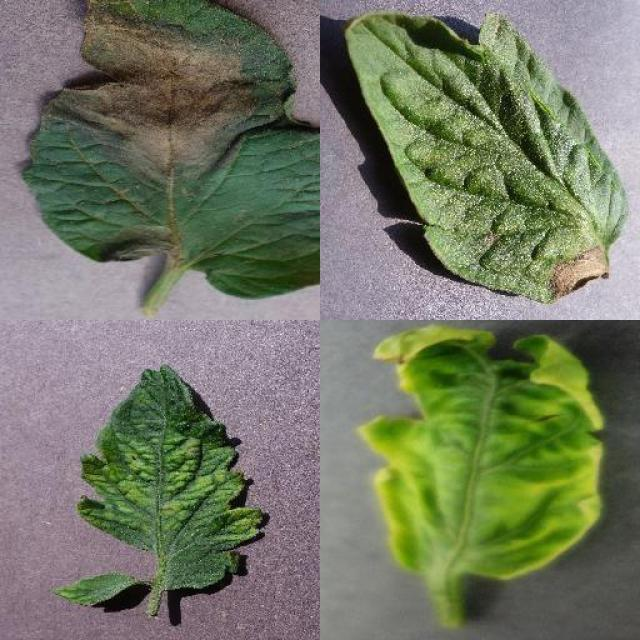Late Blight: (22, 0, 320, 300), (345, 11, 633, 308)
